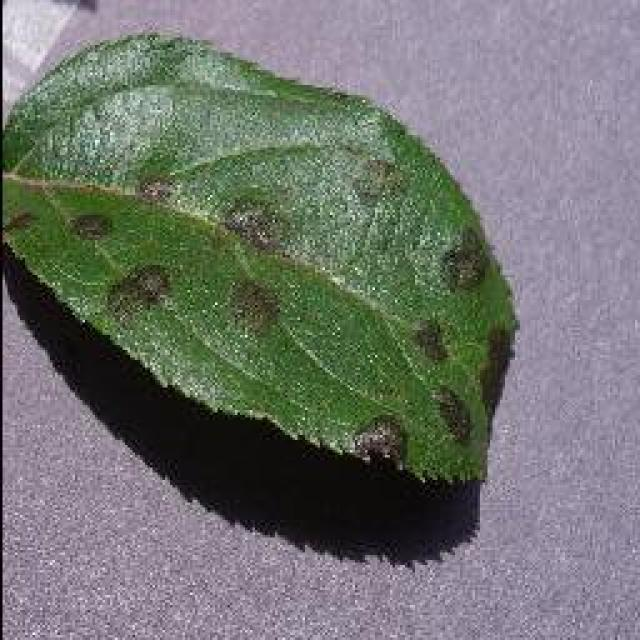apple scab disease: (0, 28, 520, 498)
